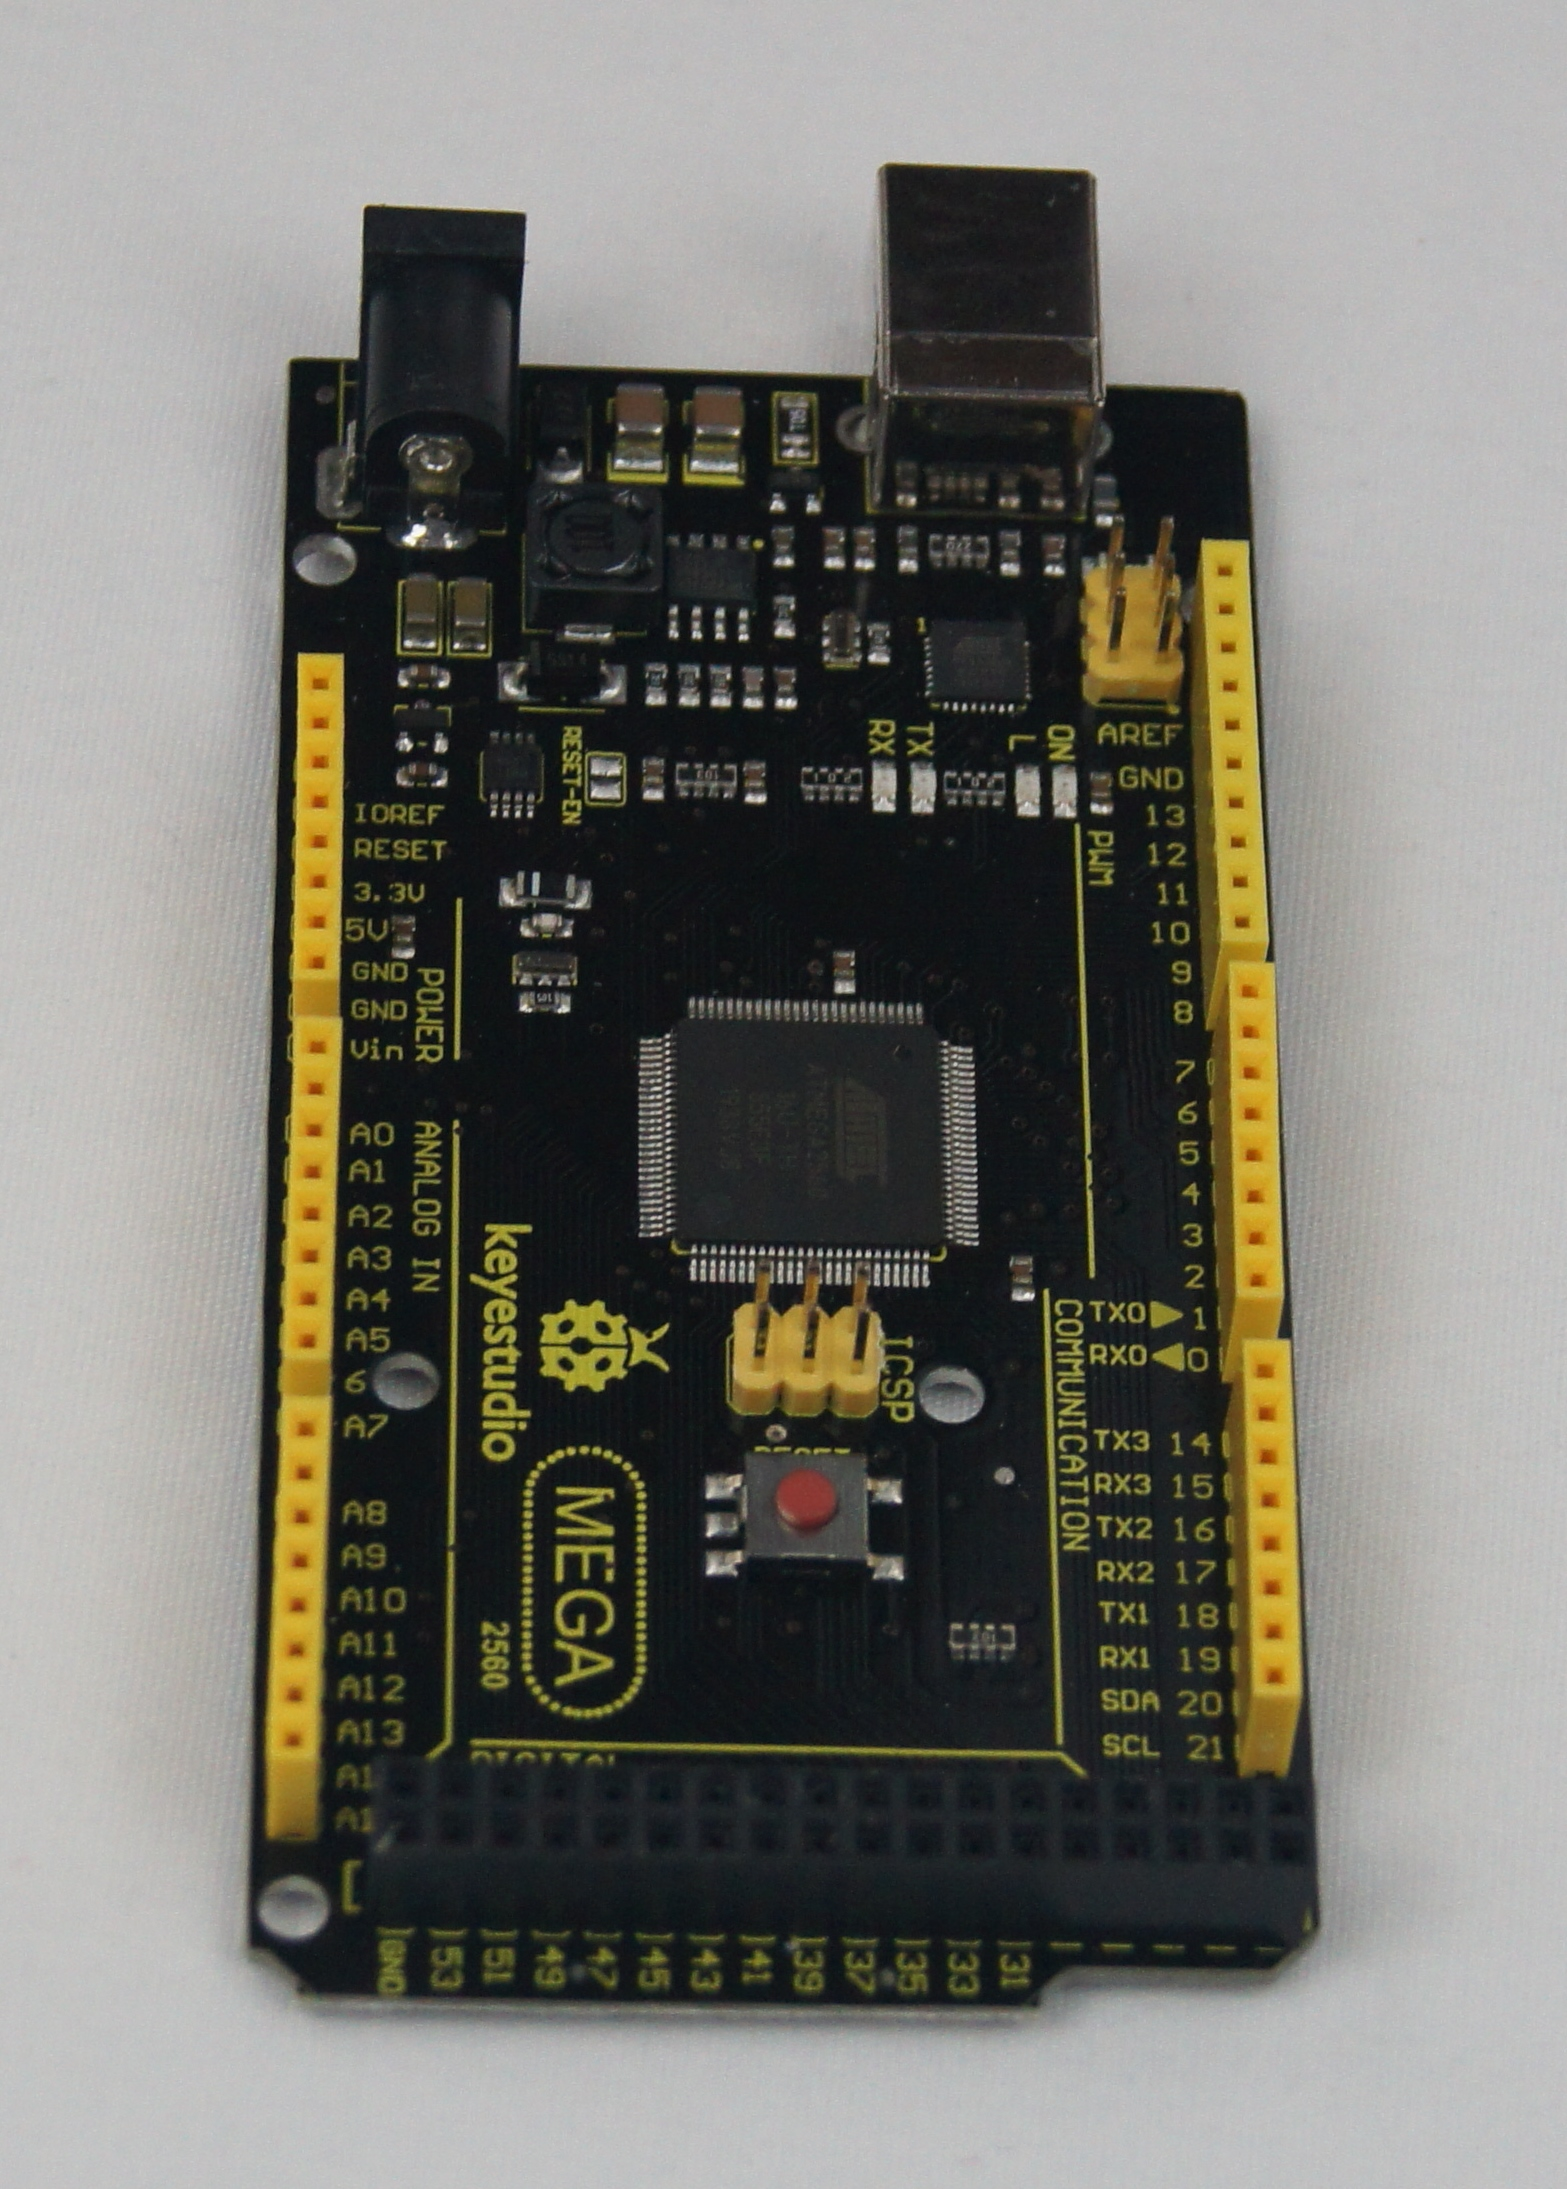connector: (365, 1750, 1314, 1892), (349, 197, 531, 539), (1197, 524, 1279, 958), (265, 1392, 336, 1779), (1235, 1331, 1306, 1713), (722, 1262, 890, 1423), (1218, 953, 1285, 1311), (280, 1011, 344, 1370), (287, 644, 348, 992), (1084, 514, 1189, 709)
